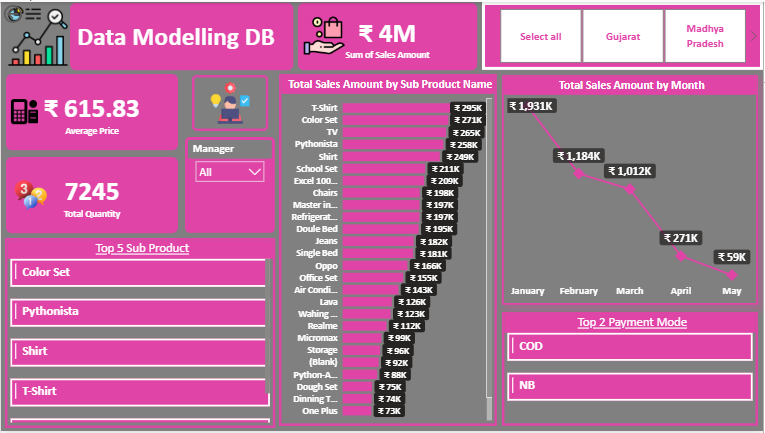

What the dashboard file says about the page in this screenshot:
{"tool":"powerbi","page":{"name":"Dashboard2","canvas":[1280,720],"ordinal":1},"visuals":[{"type":"slicer","fields":{"Values":["Dim_State.State"]},"box":[808,0,472,114.2],"z":0},{"type":"card","fields":{"Values":["Sum(Sheet1.Sales Amount)"]},"box":[498.9,1.7,300.7,112.5],"z":1000},{"type":"image","box":[0,0,124.3,114.2],"z":2000},{"type":"textbox","box":[115.9,1.7,374.6,112.5],"z":3000},{"type":"image","box":[490.5,16.8,104.1,79],"z":4000},{"type":"card","fields":{"Values":["Dim_Payment.Average Price"]},"box":[8.4,120.9,288.9,127.7],"z":5000},{"type":"image","box":[8.4,151.2,62.2,65.5],"z":6000},{"type":"card","fields":{"Values":["Dim_Payment.Total Quantity"]},"box":[8.4,260.4,288.9,127.7],"z":7000},{"type":"image","box":[0,292.3,124.3,63.8],"z":8000},{"type":"clusteredBarChart","title":"Total Sales Amount by Sub Product Name","fields":{"Y":["Sum(Sheet1.Sales Amount)"],"Category":["Dim_SubProduct.Sub Product Name"]},"box":[467,120.9,366.2,591.3],"z":9000},{"type":"lineChart","title":"Total Sales Amount by Month","fields":{"Category":["Sheet1.Month"],"Y":["Sum(Sheet1.Sales Amount)"]},"box":[841.6,122.6,430,386.4],"z":10000},{"type":"slicer","title":"Manager","fields":{"Values":["Sheet1.Manager"]},"box":[309.1,226.8,151.2,161.3],"z":11000},{"type":"image","box":[320.8,122.6,127.7,94.1],"z":12000},{"type":"actionButton","box":[0,0,100,40],"z":13000},{"type":"multiRowCard","title":"Top 5 Sub Product","fields":{"Values":["Dim_SubProduct.Sub Product Name"]},"box":[6.7,396.4,453.5,319.2],"z":14000},{"type":"multiRowCard","title":"Top 2 Payment Mode","fields":{"Values":["Dim_Payment.Payment Mode Code"]},"box":[841.6,520.7,430,191.5],"z":15000}]}

Visuals, with their boxes in screenshot pixels (x1, y1, x2, y2), scaled from the page's 1280x720 canvas onto the 765x433 screenshot:
slicer - Dim_State.State: bbox=[483, 0, 764, 69]
card - Sum(Sheet1.Sales Amount): bbox=[298, 1, 478, 69]
image: bbox=[0, 0, 74, 69]
textbox: bbox=[69, 1, 293, 69]
image: bbox=[293, 10, 355, 58]
card - Dim_Payment.Average Price: bbox=[5, 73, 178, 150]
image: bbox=[5, 91, 42, 130]
card - Dim_Payment.Total Quantity: bbox=[5, 157, 178, 233]
image: bbox=[0, 176, 74, 214]
"Total Sales Amount by Sub Product Name" clusteredBarChart: bbox=[279, 73, 498, 428]
"Total Sales Amount by Month" lineChart: bbox=[503, 74, 760, 306]
"Manager" slicer: bbox=[185, 136, 275, 233]
image: bbox=[192, 74, 268, 130]
actionButton: bbox=[0, 0, 60, 24]
"Top 5 Sub Product" multiRowCard: bbox=[4, 238, 275, 430]
"Top 2 Payment Mode" multiRowCard: bbox=[503, 313, 760, 428]
